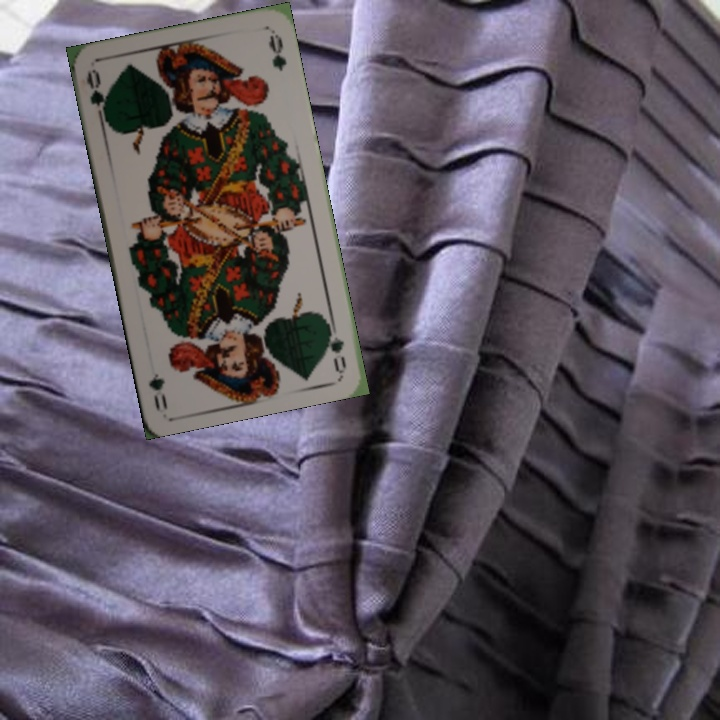GO: (319, 314, 349, 374), (82, 67, 110, 126)
